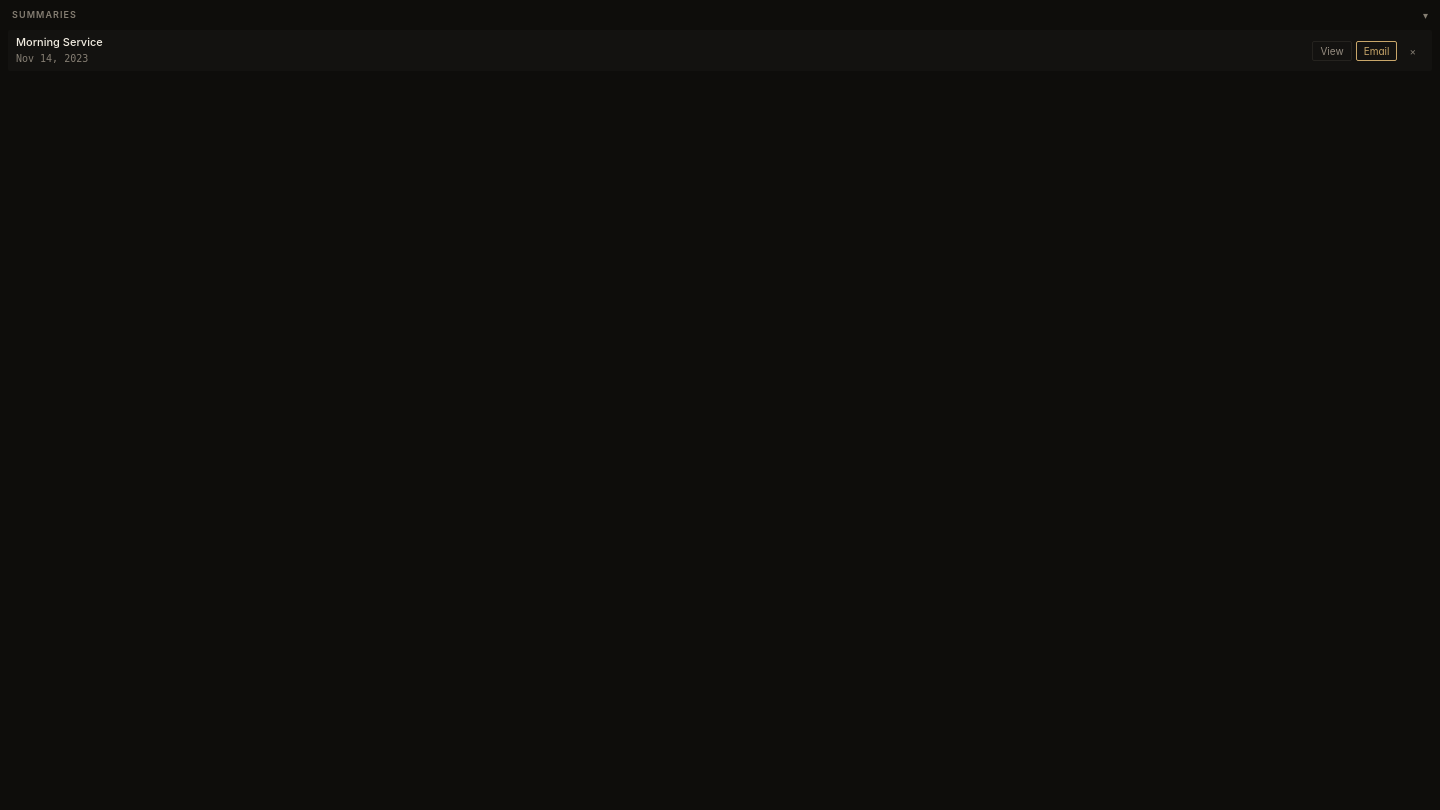
Test: SummaryPanel › opens SummaryDetailModal when View is clicked
The width and height of the screenshot is (1440, 810).
Click the button titled "View summary": (1332, 51) [1312, 41, 1352, 61]
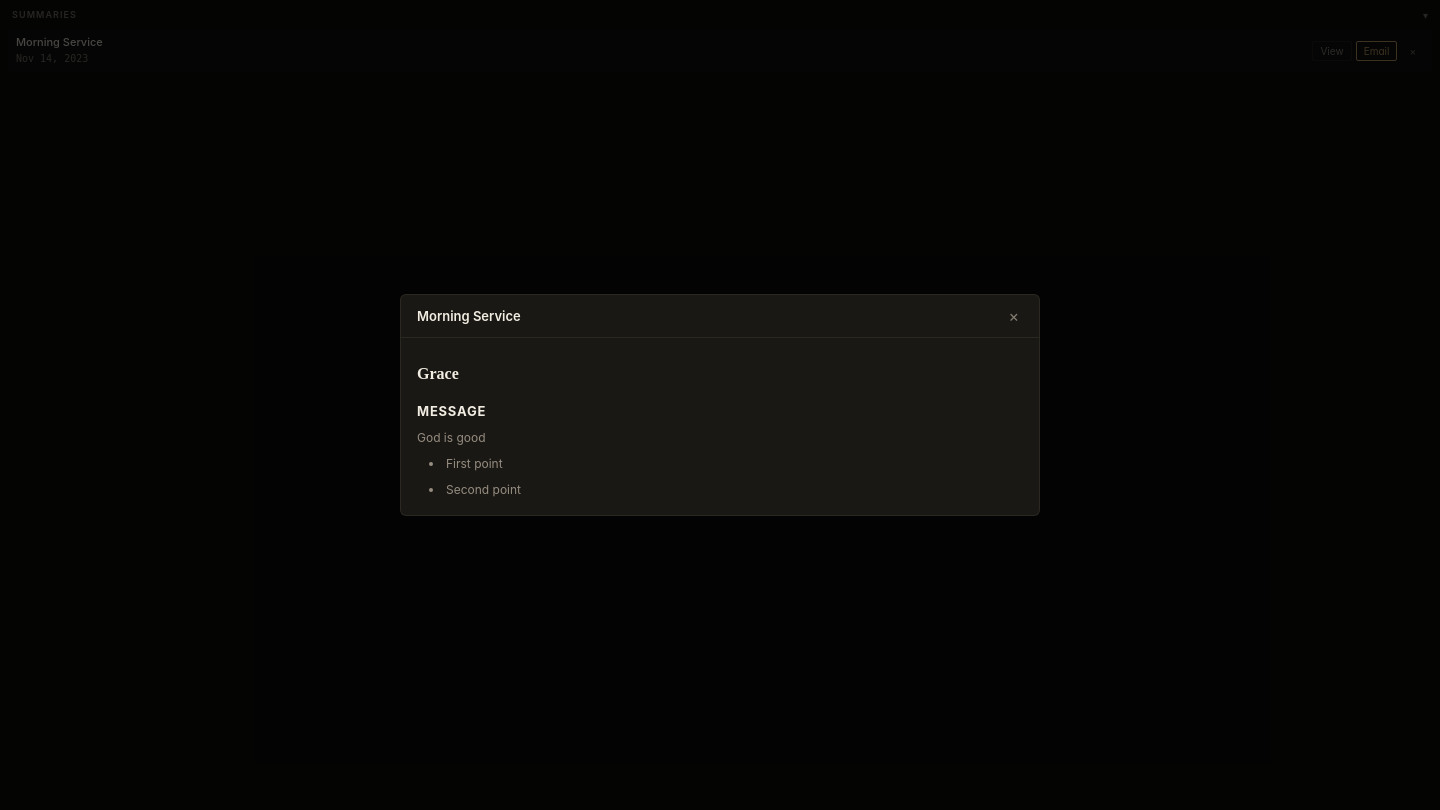
Expected: the text "Morning Service" is shown, [417, 307, 521, 325]
Expected: the button named "Close" is shown, [1004, 308, 1023, 324]
